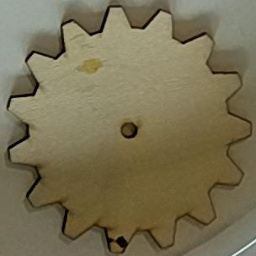Points: (106, 232, 129, 249)
